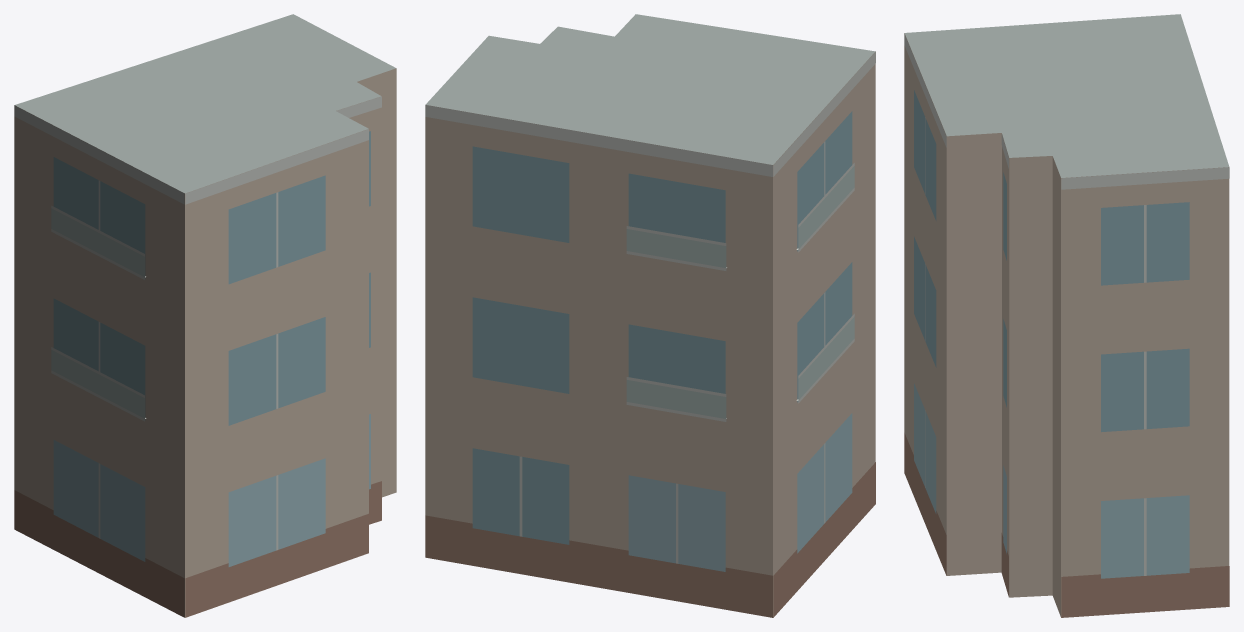
Rendered from survey-upis-32979993.glb.
The picture shows the model from 3 angles, left to right: view 1: azimuth 30°, elevation 25°; view 2: azimuth 150°, elevation 25°; view 3: azimuth 270°, elevation 25°; orthographic projection. The views are drawn at different scales.
Parts seen in each view (by area): view 1: survey-upis-32979993.tmp; view 2: survey-upis-32979993.tmp; view 3: survey-upis-32979993.tmp.
Boxes of the visible parts, x1,y1,x2,y2 form: survey-upis-32979993.tmp: (14, 14, 396, 617); survey-upis-32979993.tmp: (425, 14, 875, 617); survey-upis-32979993.tmp: (904, 14, 1229, 617).
Size of the model in its own units: 7.33 by 9.15 by 6.14.
